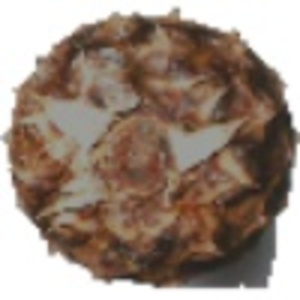abacaxi: (5, 10, 294, 280)
